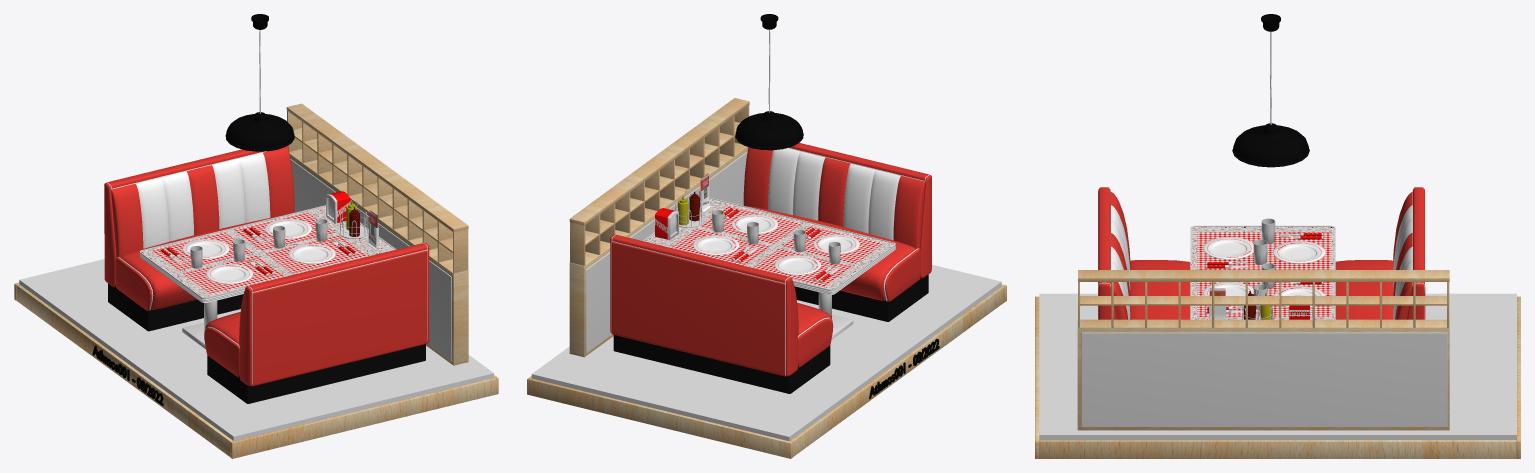
Rendered from American_Diner_table_XPR.fbx.
3 renders of one model, left to right at view 1: azimuth 30°, elevation 25°; view 2: azimuth 150°, elevation 25°; view 3: azimuth 270°, elevation 25°, orthographic. The views are drawn at different scales.
Visible parts, largest first — view 1: mobi_table_complet_4p, immo_sol, immo_separation_bois, socle_bois, deco_luminaire_lustre, socle_text; view 2: mobi_table_complet_4p, immo_sol, immo_separation_bois, socle_bois, deco_luminaire_lustre, socle_text; view 3: immo_separation_bois, mobi_table_complet_4p, immo_sol, socle_bois, deco_luminaire_lustre.
Boxes of the visible parts, x1,y1,x2,y2 form: mobi_table_complet_4p: (104,145,429,403); immo_sol: (19,259,493,440); immo_separation_bois: (286,103,468,365); socle_bois: (14,282,498,458); deco_luminaire_lustre: (225,14,294,151); socle_text: (92,345,163,405); mobi_table_complet_4p: (610,143,931,393); immo_sol: (531,264,1001,441); immo_separation_bois: (569,98,749,357); socle_bois: (527,284,1006,458); deco_luminaire_lustre: (735,14,803,150); socle_text: (869,339,939,399); immo_separation_bois: (1077,270,1449,430); mobi_table_complet_4p: (1098,187,1425,319); immo_sol: (1039,293,1516,439); socle_bois: (1035,296,1520,458); deco_luminaire_lustre: (1232,14,1309,167).
Bounding box in the file's own units: 191 × 226 × 270.
